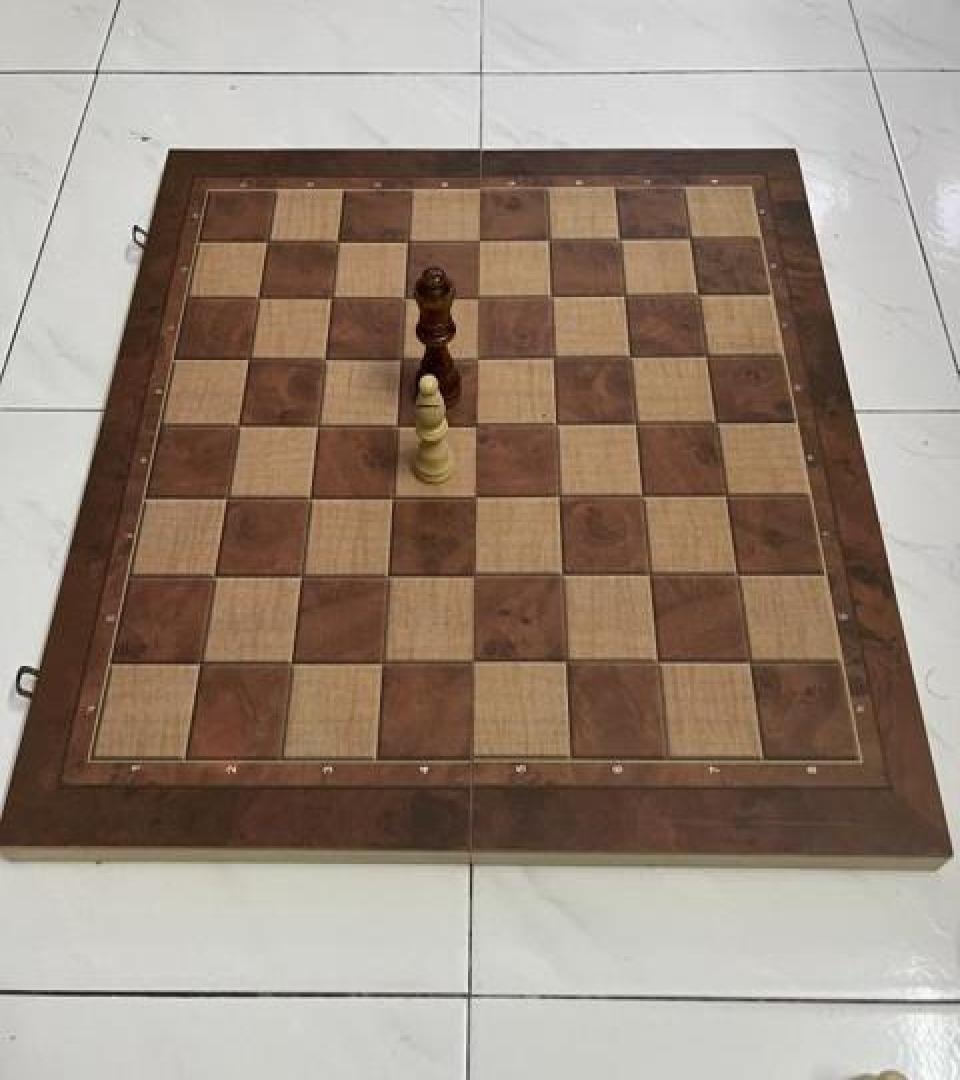xcorner: (673, 220, 705, 256), (602, 220, 634, 256), (531, 222, 563, 258), (461, 222, 493, 258), (390, 223, 422, 259), (320, 223, 352, 259), (250, 223, 282, 259), (680, 277, 712, 313), (607, 278, 639, 314), (533, 278, 565, 314), (460, 279, 492, 315), (387, 279, 419, 315), (314, 279, 346, 315), (241, 280, 273, 316), (689, 338, 721, 374), (612, 340, 644, 376), (536, 340, 568, 376), (460, 340, 492, 376), (384, 341, 416, 377), (308, 341, 340, 377), (232, 341, 264, 377), (698, 406, 730, 442), (618, 406, 650, 442), (539, 406, 571, 442), (459, 407, 491, 443), (380, 407, 412, 443), (301, 407, 333, 443), (222, 408, 254, 444), (708, 479, 740, 515), (625, 479, 657, 515), (542, 479, 574, 515), (459, 479, 491, 515), (376, 480, 408, 516), (293, 480, 325, 516), (211, 480, 243, 516), (719, 558, 751, 594), (632, 559, 664, 595), (545, 559, 577, 595), (458, 559, 490, 595), (371, 559, 403, 595), (285, 559, 317, 595), (199, 559, 231, 595), (731, 646, 763, 682), (640, 646, 672, 682), (548, 646, 580, 682), (457, 646, 489, 682), (367, 646, 399, 682), (276, 647, 308, 683), (186, 647, 218, 683)
